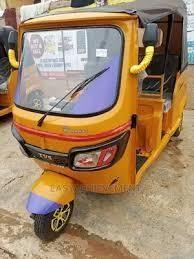keke: (10, 2, 194, 251)
